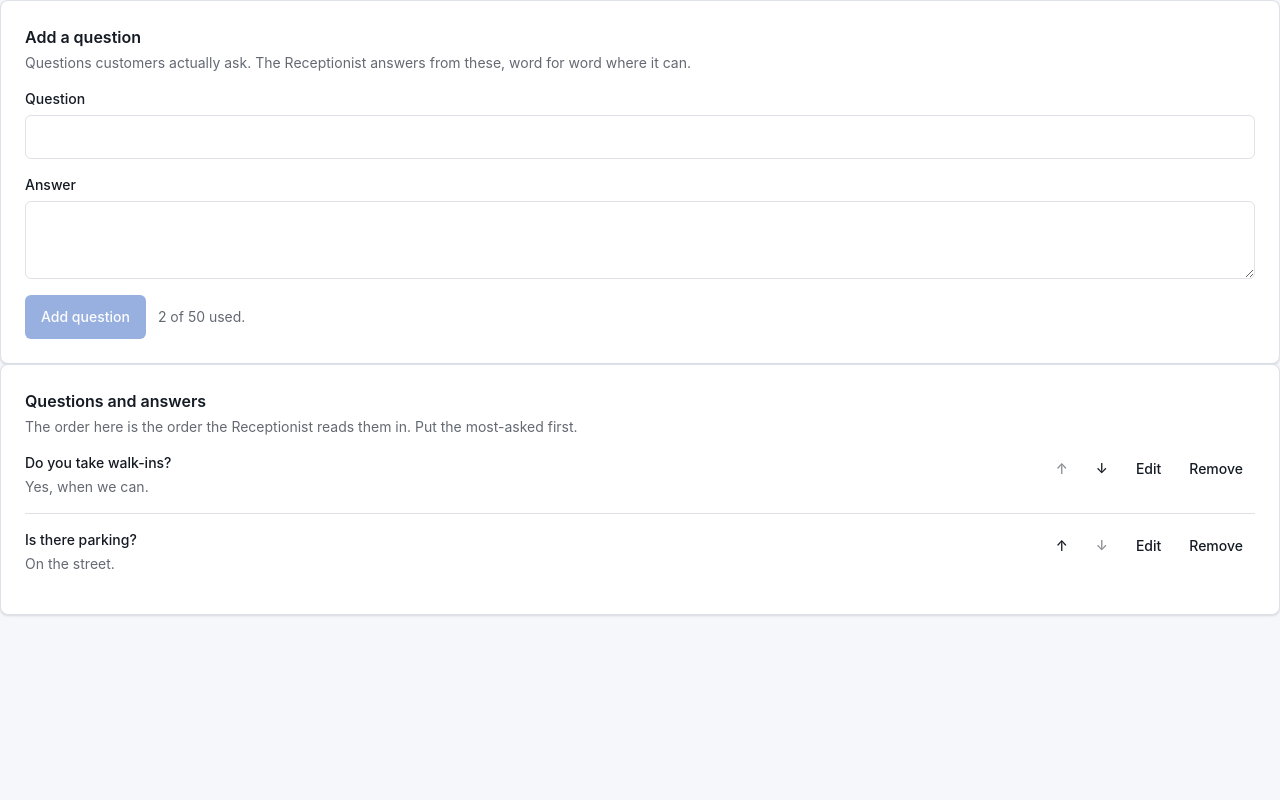
it: FaqsCard, when a write is refused › toasts the server sentence when a removal is refused
This screenshot has width=1280, height=800.
Step 1. Click the button "Remove" in the row of "Do you take walk-ins?" → (1216, 469), box [1177,453,1255,485]
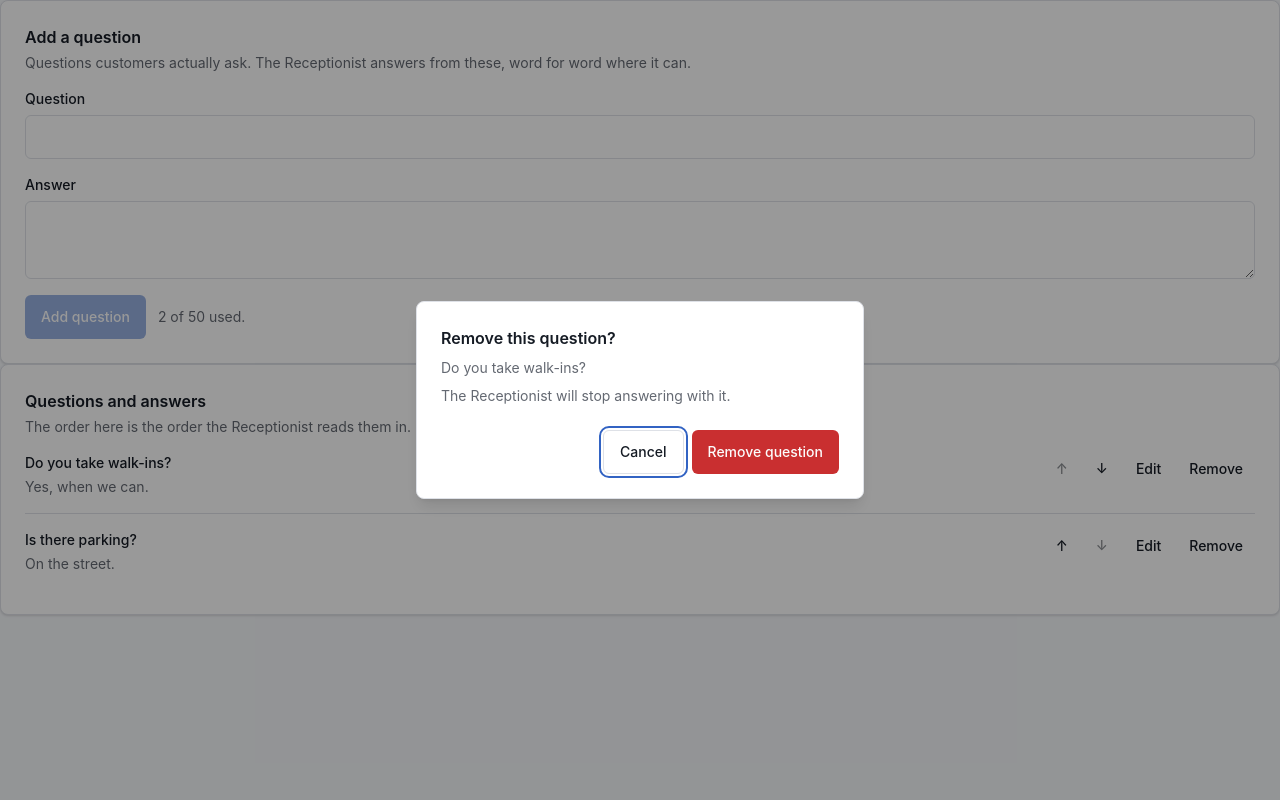
Step 2. Click the button "Remove question" → (765, 452), box [692,430,839,474]
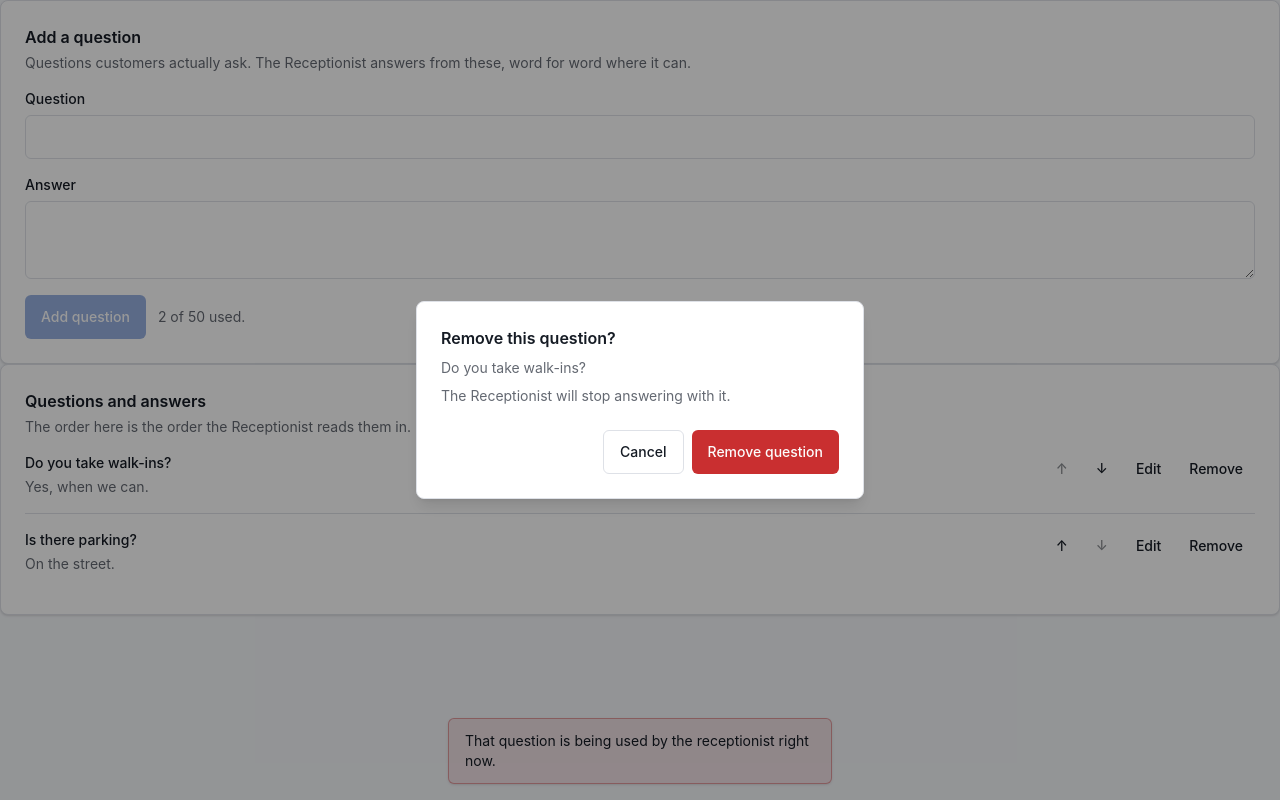
Check: the text "That question is being used by the receptionist right now." is shown, box [448,718,832,784]
